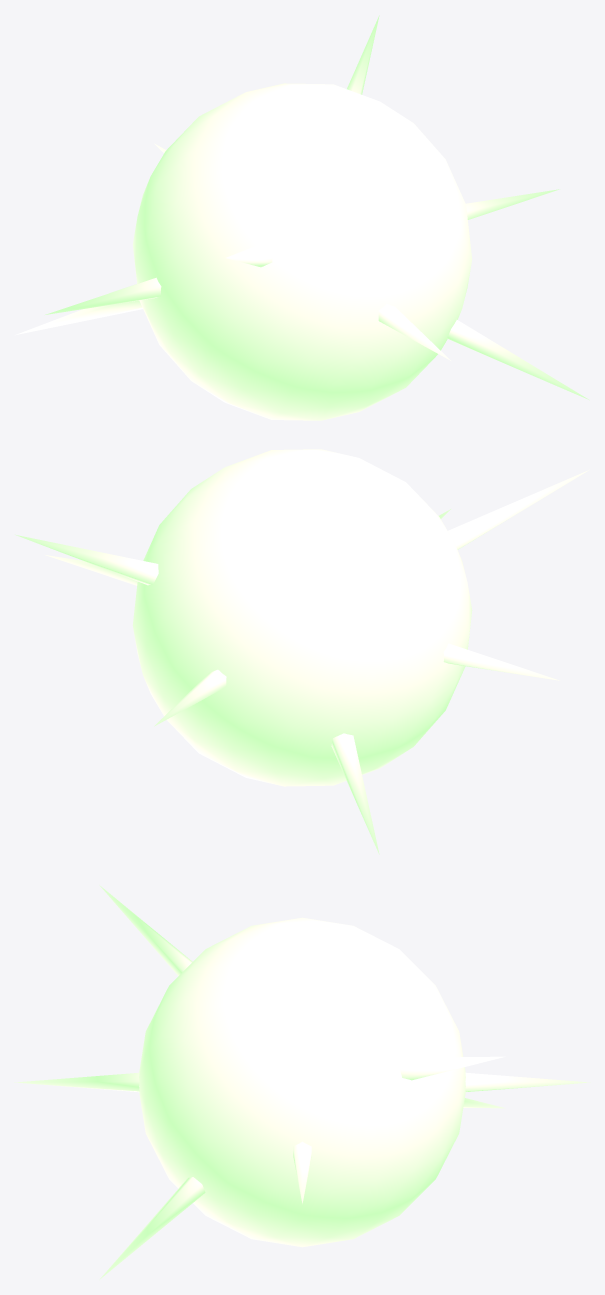
The model's file is plasma_ball.gltf.
The picture shows the model from 3 angles, top to bottom: view 1: azimuth 30°, elevation 25°; view 2: azimuth 150°, elevation 25°; view 3: azimuth 270°, elevation 25°; orthographic projection. The views are drawn at different scales.
Visible parts, largest first — view 1: plasma_ball; view 2: plasma_ball; view 3: plasma_ball.
Part boxes in pixels (bbox=[...]): plasma_ball: bbox=[15, 15, 589, 420]; plasma_ball: bbox=[15, 449, 589, 854]; plasma_ball: bbox=[14, 885, 590, 1279].
Bounding box in the file's own units: 1.4 × 0.8 × 1.4.
